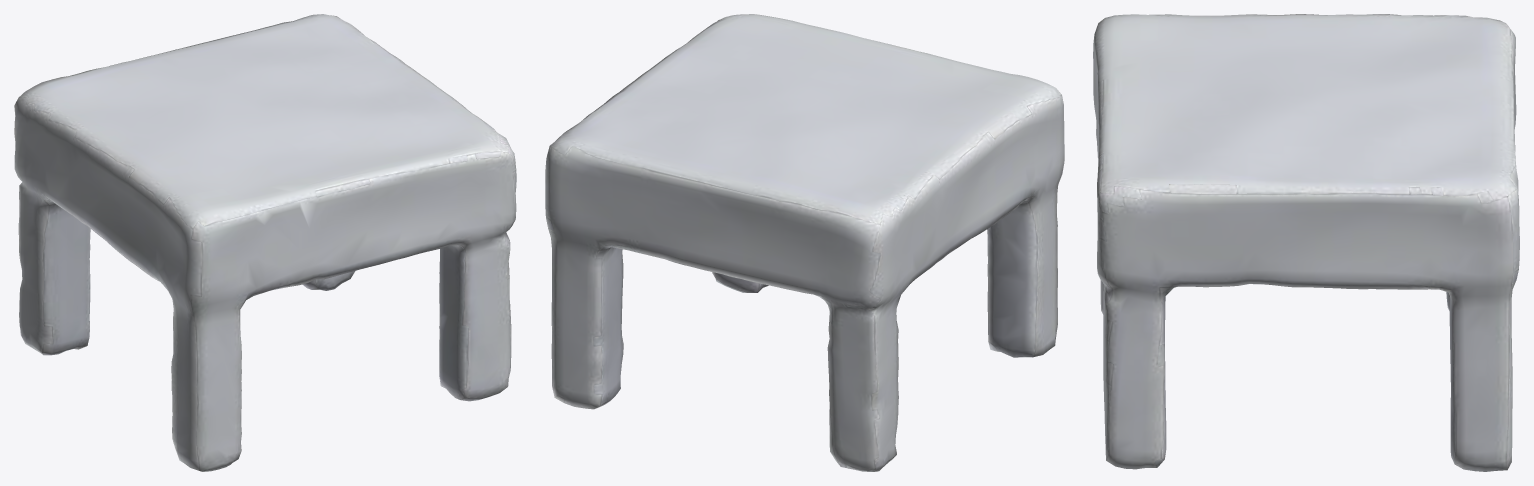
File: White_nightstand.glb
3 renders of one model, left to right at view 1: azimuth 30°, elevation 25°; view 2: azimuth 150°, elevation 25°; view 3: azimuth 270°, elevation 25°, orthographic. The views are drawn at different scales.
Parts seen in each view (by area): view 1: RETOPO; view 2: RETOPO; view 3: RETOPO.
Part boxes in pixels (box(x1,y1,x2,y2)): RETOPO: box(14, 14, 516, 471); RETOPO: box(545, 14, 1064, 471); RETOPO: box(1093, 14, 1519, 471).
Bounding box in the file's own units: 0.9945 × 0.7538 × 0.9889.
Materials: 1 (1 with a texture image).
